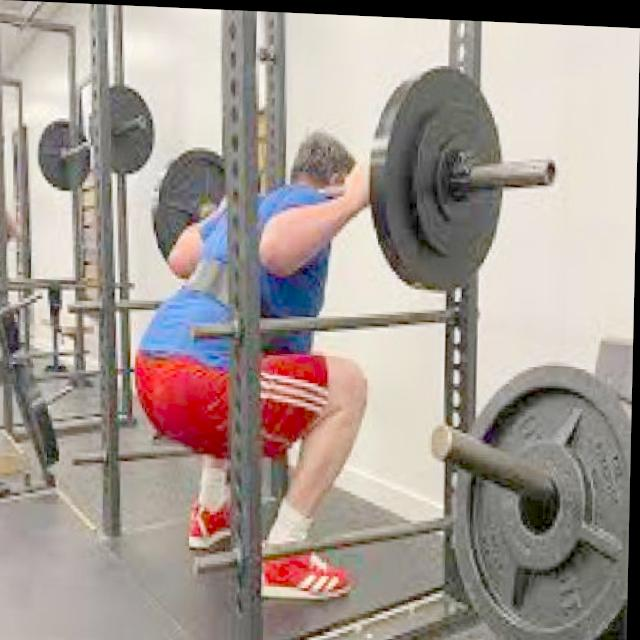barbell: (373, 58, 564, 297)
